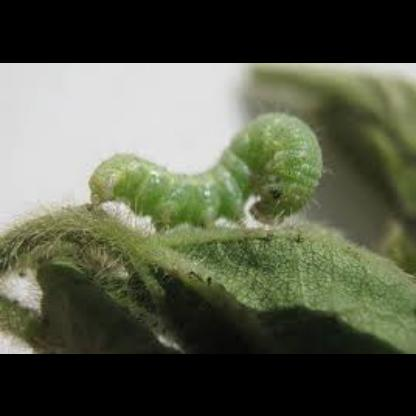oruga: (81, 102, 337, 233)
